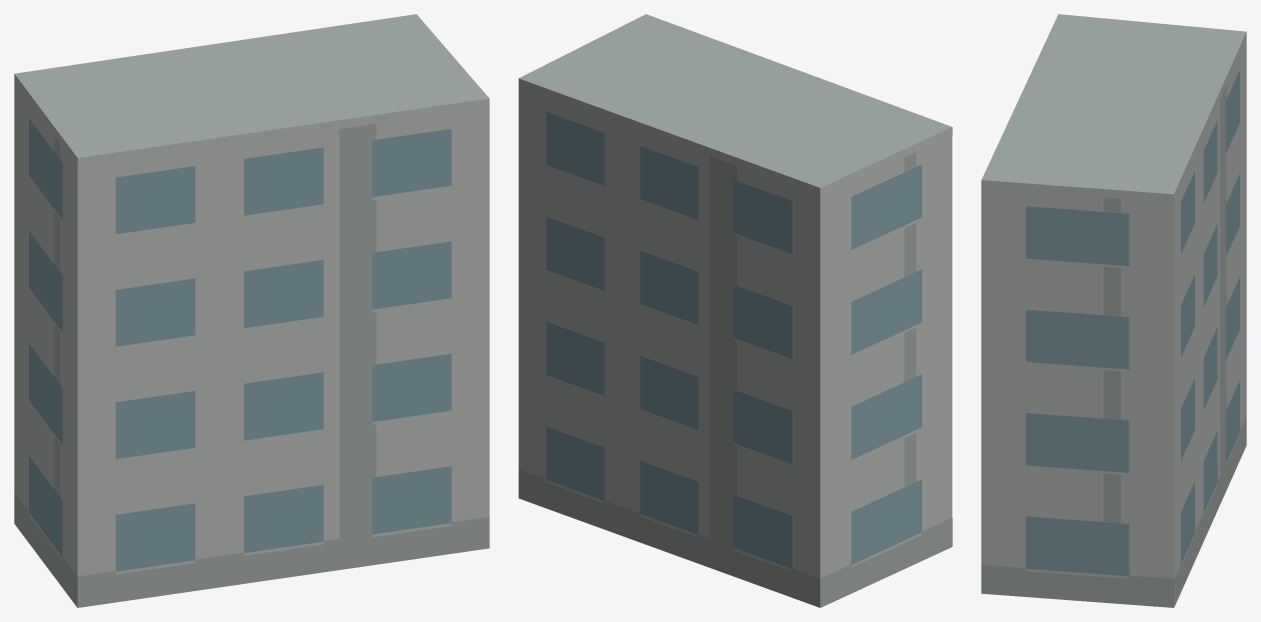
The model's file is survey-upis-32702768.glb.
3 views of the same model, side by side, from view 1: azimuth 30°, elevation 25°; view 2: azimuth 150°, elevation 25°; view 3: azimuth 270°, elevation 25° (orthographic). The views are drawn at different scales.
Visible parts, largest first — view 1: survey-upis-32702768.tmp; view 2: survey-upis-32702768.tmp; view 3: survey-upis-32702768.tmp.
Boxes of the visible parts, box(x1,y1,x2,y2) form: survey-upis-32702768.tmp: box(14, 14, 489, 607); survey-upis-32702768.tmp: box(518, 14, 952, 607); survey-upis-32702768.tmp: box(981, 14, 1246, 607).
Bounding box in the file's own units: 11.41 × 12.2 × 7.1.
